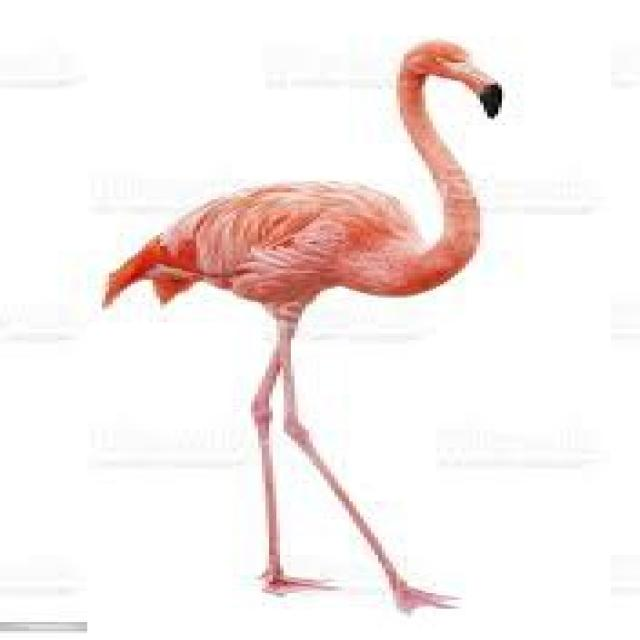Flamingo: (96, 32, 507, 615)
